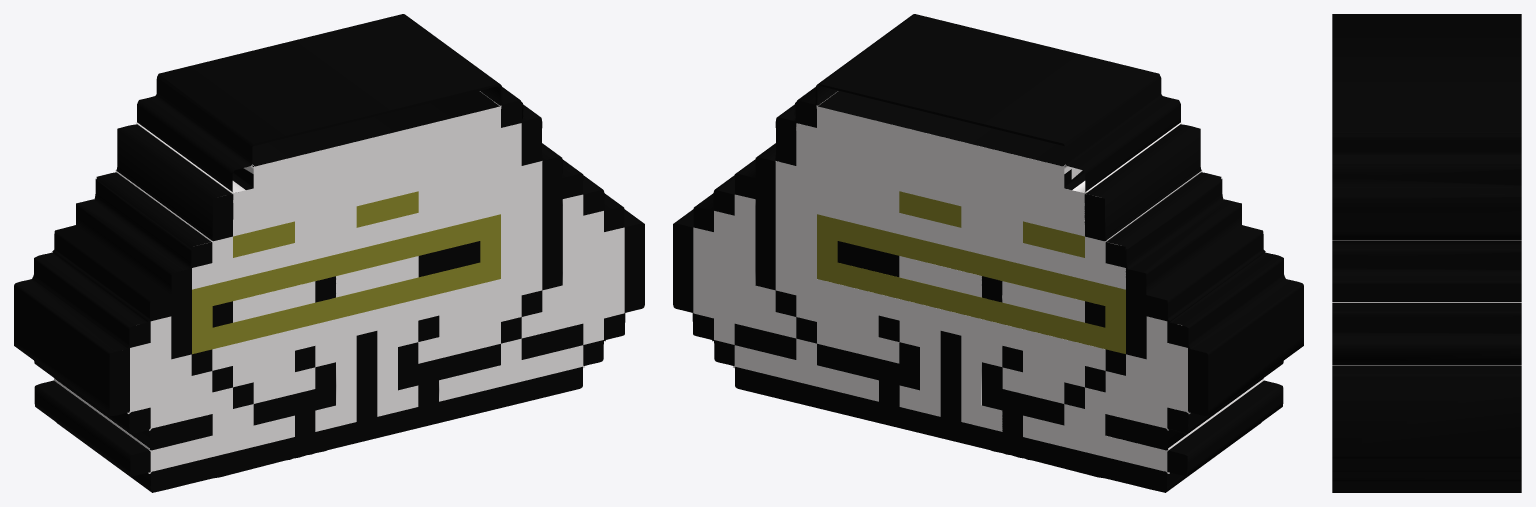
Rendered from Toadz_1092.glb.
3 views of the same model, side by side, from view 1: azimuth 30°, elevation 25°; view 2: azimuth 150°, elevation 25°; view 3: azimuth 270°, elevation 25° (orthographic).
Parts seen in each view (by area): view 1: Curve; view 2: Curve; view 3: Curve.
Part boxes in pixels (x1,y1,x2,y2): Curve: [14, 14, 644, 492]; Curve: [673, 14, 1303, 492]; Curve: [1332, 14, 1521, 492].
Bounding box in the file's own units: 3.23 × 1.88 × 1.
